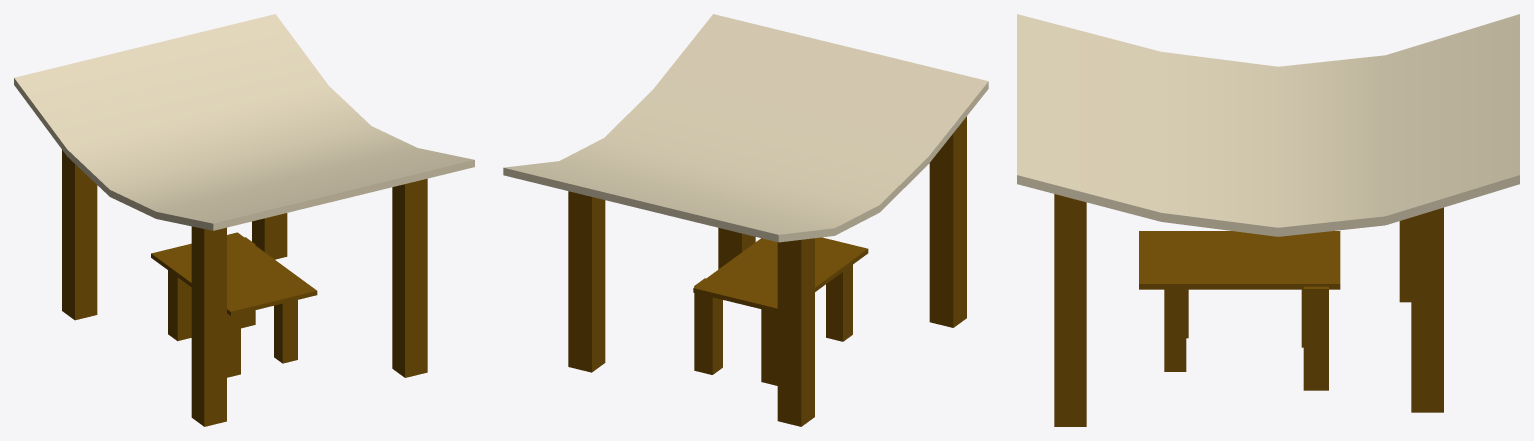
The model's file is Z's House.fbx.
3 renders of one model, left to right at view 1: azimuth 30°, elevation 25°; view 2: azimuth 150°, elevation 25°; view 3: azimuth 270°, elevation 25°, orthographic. The views are drawn at different scales.
Parts seen in each view (by area): view 1: pCube11; view 2: pCube11; view 3: pCube11.
Boxes of the visible parts, x1,y1,x2,y2 form: pCube11: (14,14,474,426); pCube11: (503,14,988,426); pCube11: (1017,14,1519,426).
Bounding box in the file's own units: 6.45 × 5.24 × 8.52.
